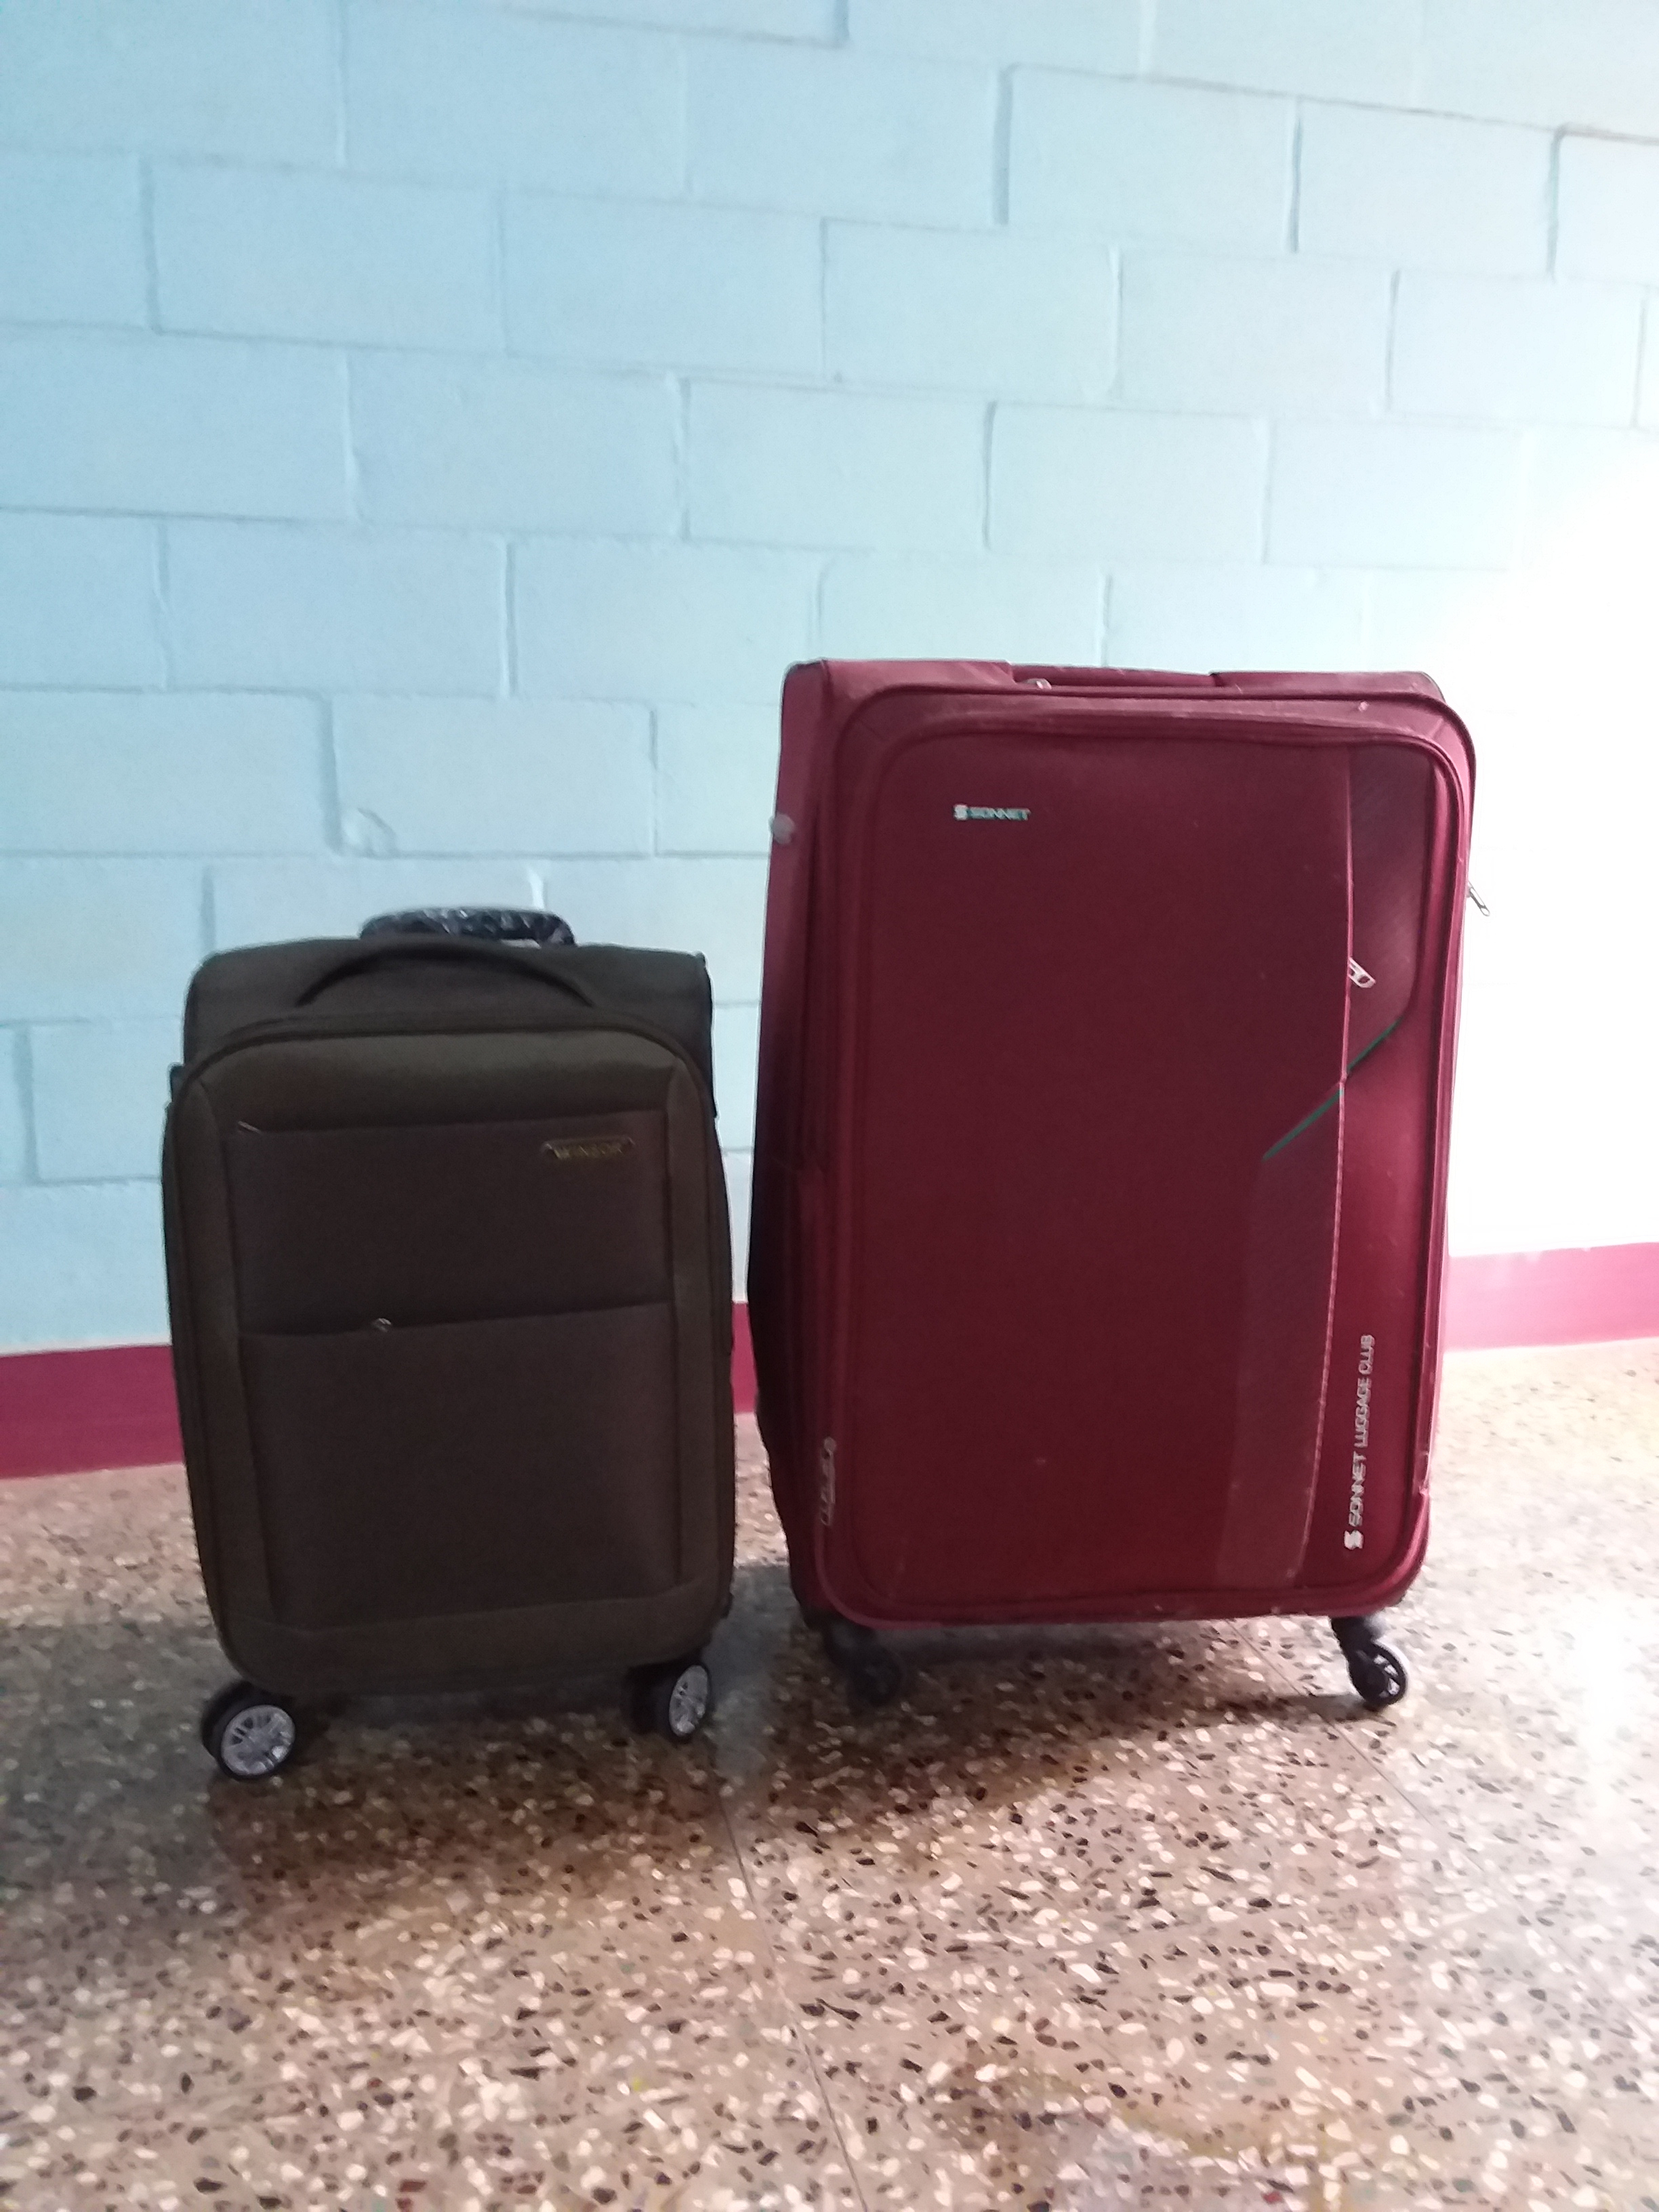suitcase: (737, 639, 1483, 1719), (146, 892, 744, 1784)
